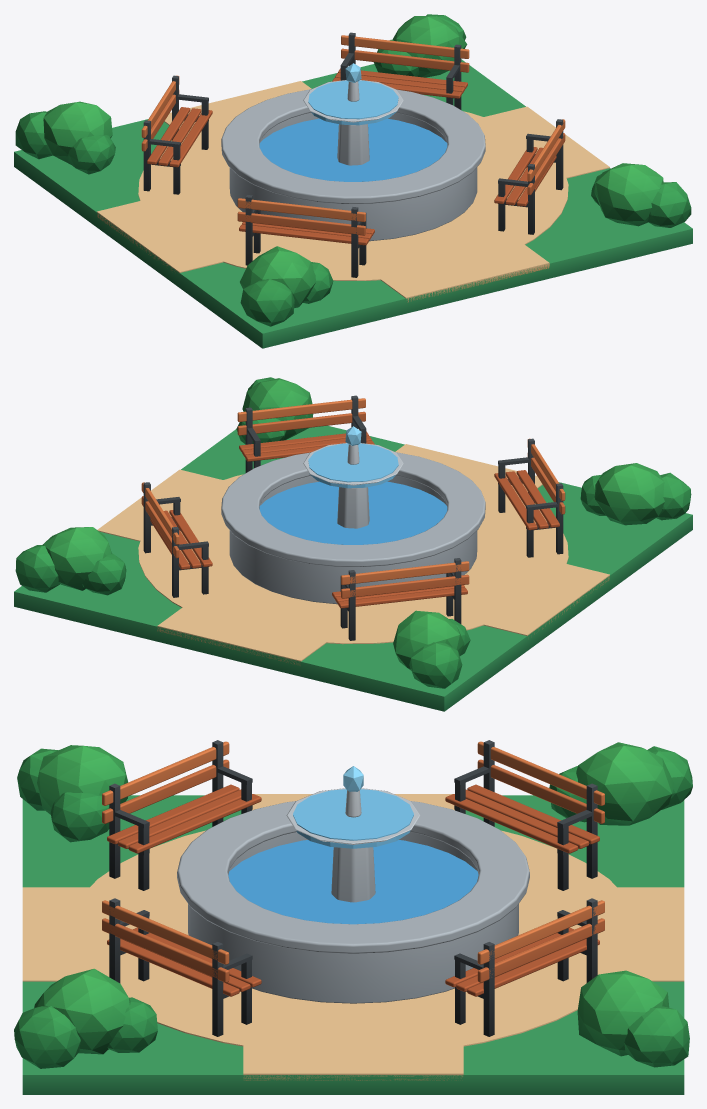
Rendered from plaza_fuente.glb.
3 renders of one model, top to bottom at view 1: azimuth 30°, elevation 25°; view 2: azimuth 150°, elevation 25°; view 3: azimuth 270°, elevation 25°, orthographic. The views are drawn at different scales.
Visible parts, largest first — view 1: plaza_fuente; view 2: plaza_fuente; view 3: plaza_fuente.
Part boxes in pixels (x1=…): plaza_fuente: x1=14, y1=14, x2=692, y2=348; plaza_fuente: x1=14, y1=377, x2=692, y2=711; plaza_fuente: x1=14, y1=740, x2=692, y2=1094.
Bounding box in the file's own units: 6.16 × 1.89 × 6.16.
Materials: 1 (1 with a texture image).
